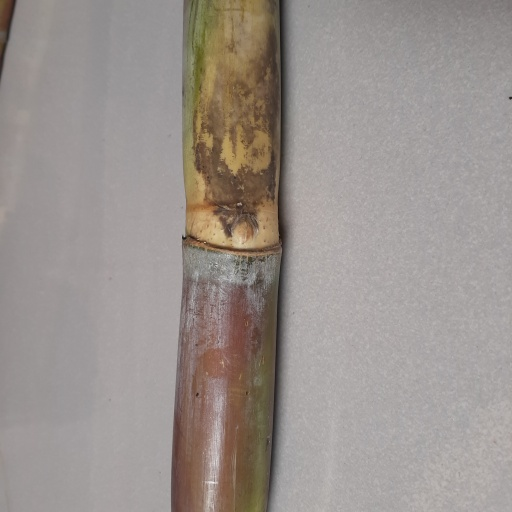Bud: (232, 218, 253, 245)
